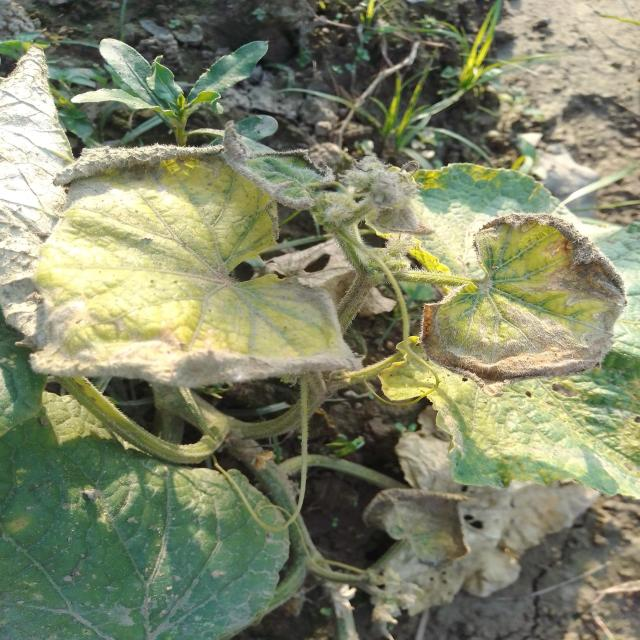cucumber_bacterial: (26, 145, 343, 404), (0, 374, 297, 640), (386, 385, 614, 608), (442, 206, 631, 387), (0, 30, 75, 351)
